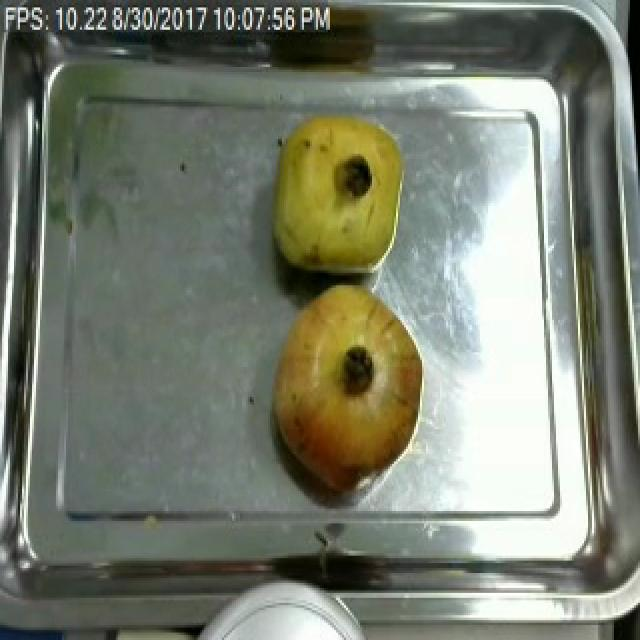fruit: (264, 268, 430, 503), (262, 104, 414, 283)
